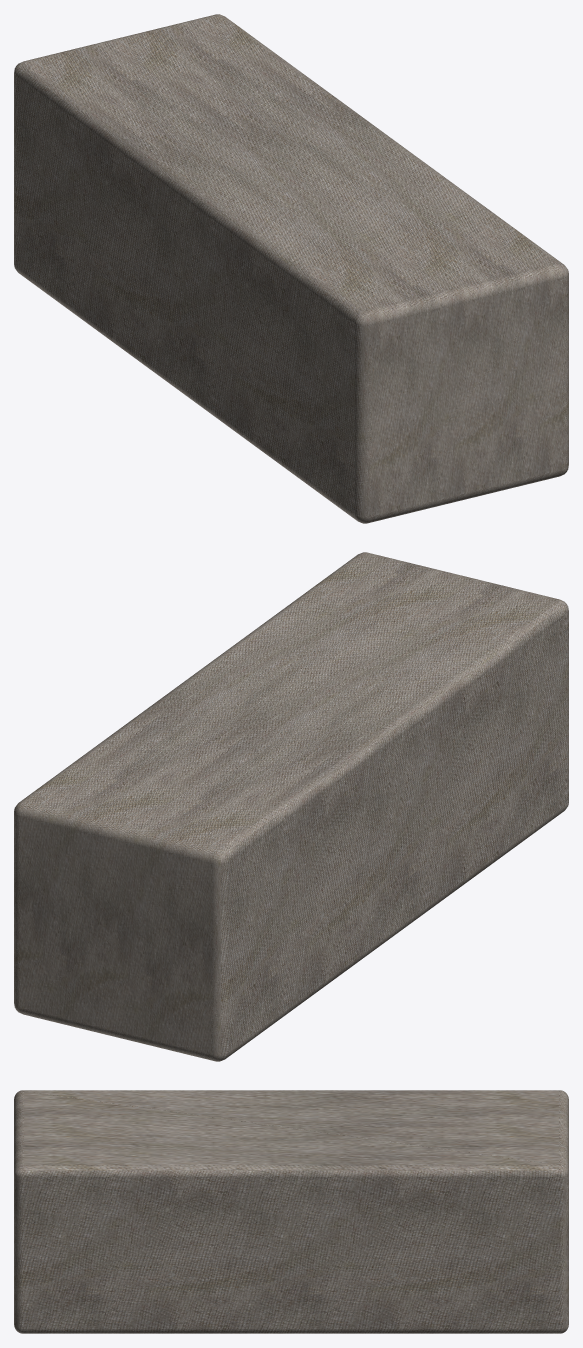
File: Vanadis soffa.fbx
The picture shows the model from 3 angles, top to bottom: view 1: azimuth 30°, elevation 25°; view 2: azimuth 150°, elevation 25°; view 3: azimuth 270°, elevation 25°; orthographic projection. The views are drawn at different scales.
Visible parts, largest first — view 1: pCube1; view 2: pCube1; view 3: pCube1.
Boxes of the visible parts, x1,y1,x2,y2 form: pCube1: [14, 14, 568, 523]; pCube1: [14, 552, 568, 1061]; pCube1: [14, 1090, 568, 1333].
Bounding box in the file's own units: 0.42 × 0.4 × 1.2.
Materials: 1 (1 with a texture image).
